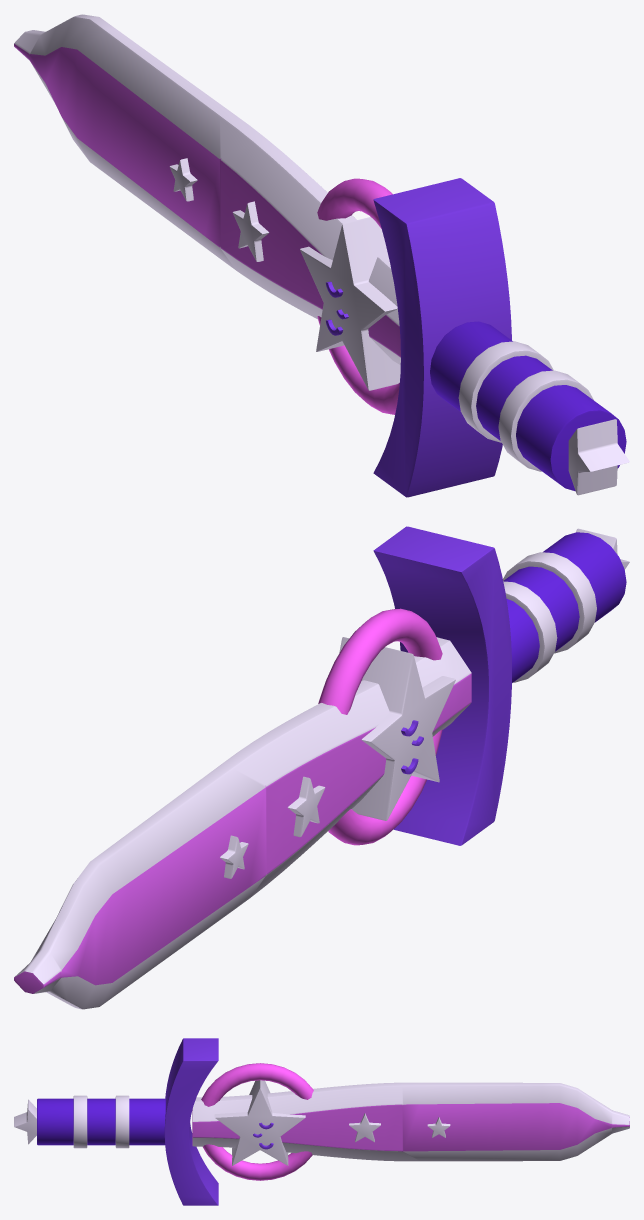
File: Sword_QuietStar.glb
3 renders of one model, top to bottom at view 1: azimuth 30°, elevation 25°; view 2: azimuth 150°, elevation 25°; view 3: azimuth 270°, elevation 25°, orthographic. The views are drawn at different scales.
Parts seen in each view (by area): view 1: Sword_QuietStar; view 2: Sword_QuietStar; view 3: Sword_QuietStar.
Part boxes in pixels (x1=…): Sword_QuietStar: x1=14, y1=14, x2=629, y2=497; Sword_QuietStar: x1=14, y1=526, x2=629, y2=1009; Sword_QuietStar: x1=14, y1=1038, x2=629, y2=1205.
Bounding box in the file's own units: 0.088 × 0.2601 × 1.
1 material, 1 textured.
